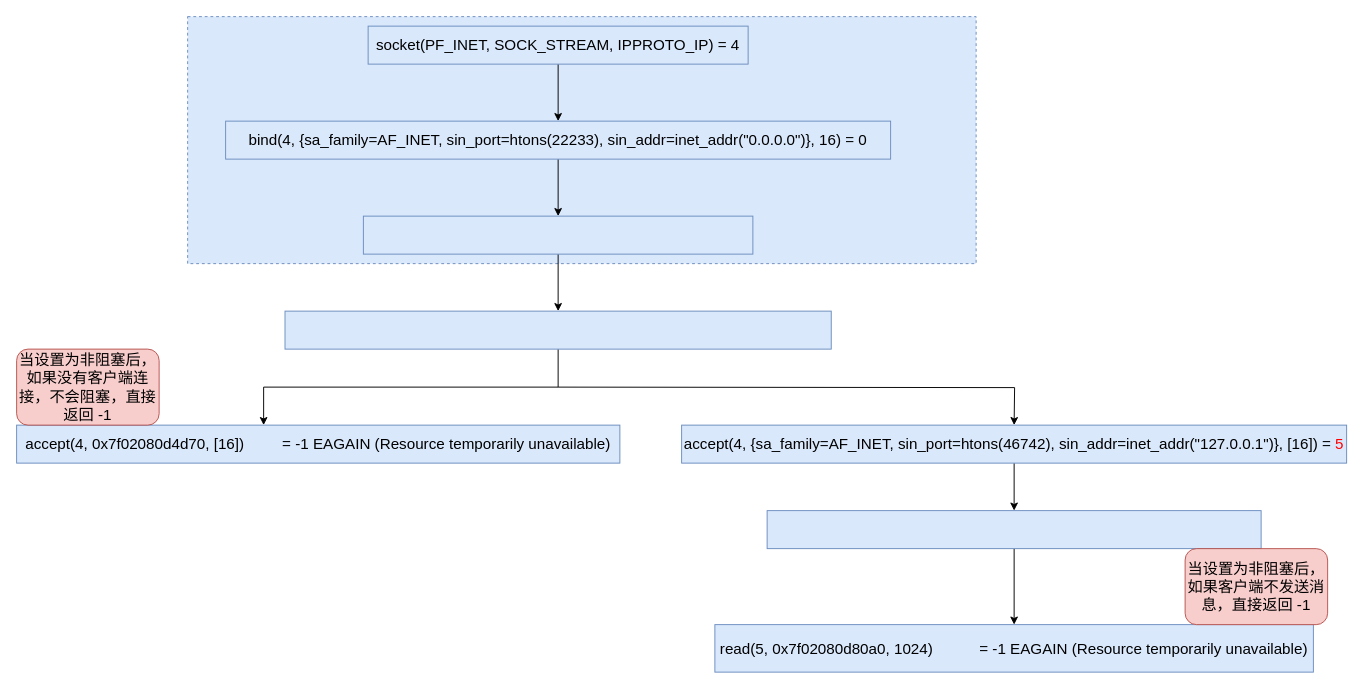
This 1363x689 diagram has some shape labels left out. The box of each missing label's shape, as (x1, y1, x2, y2) in pixels:
fcntl( 5 , F_SETFL, O_RDWR|O_NONBLOCK) = 0: (766, 510, 1261, 549)
fcntl(4, F_SETFL, O_RDWR| O_NONBLOCK ) = 0: (284, 310, 831, 349)
listen(4, 50) = 0: (362, 215, 753, 254)
